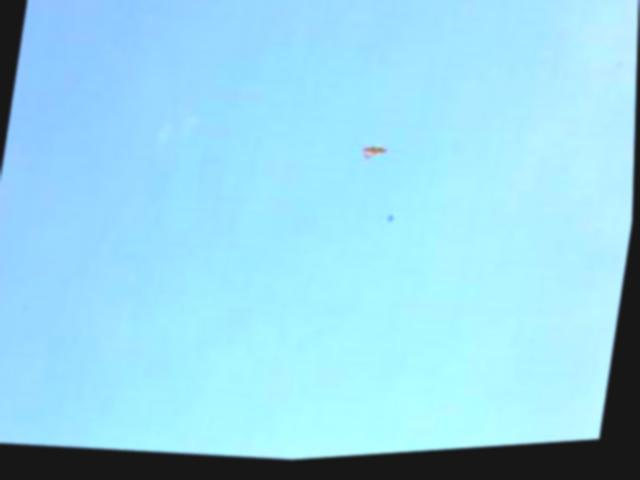uav: (359, 148, 389, 165)
